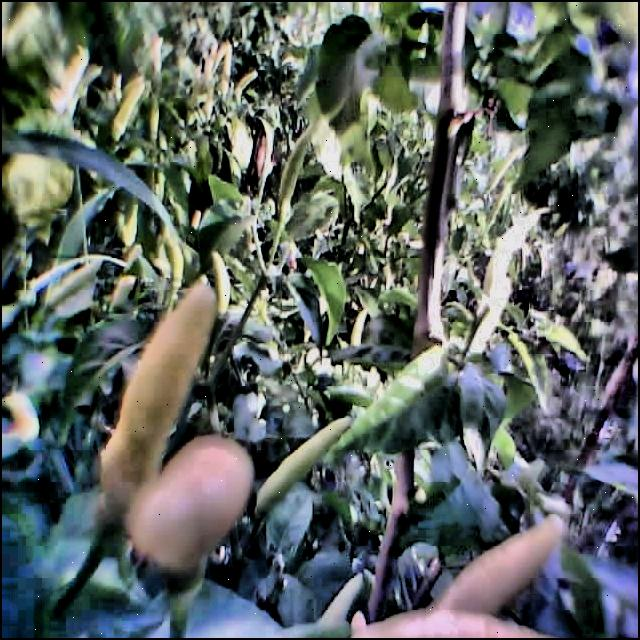Cabai: (149, 446, 248, 569)
